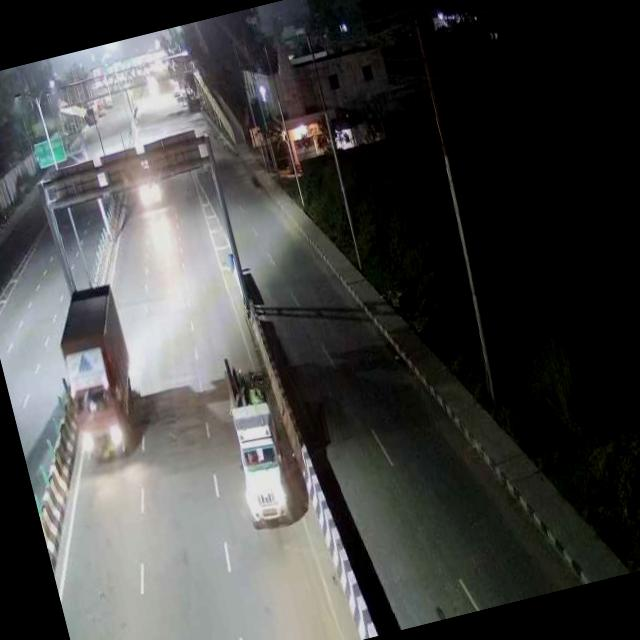car: (210, 355, 306, 532)
